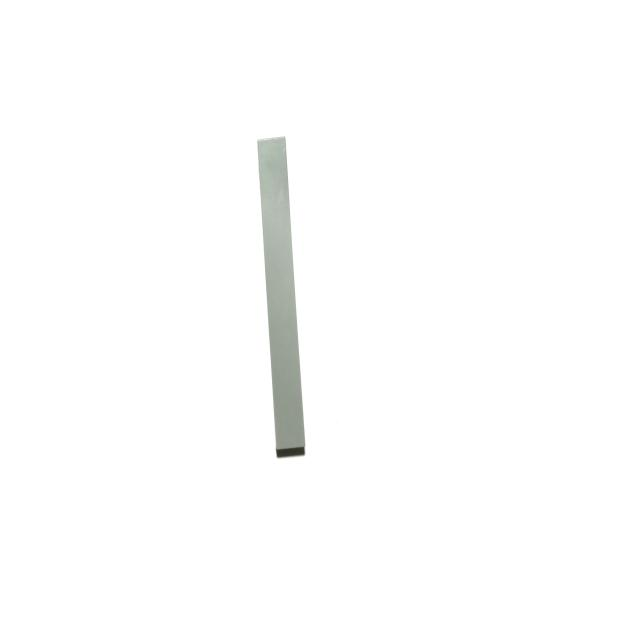White_Medium: (253, 135, 306, 451)
